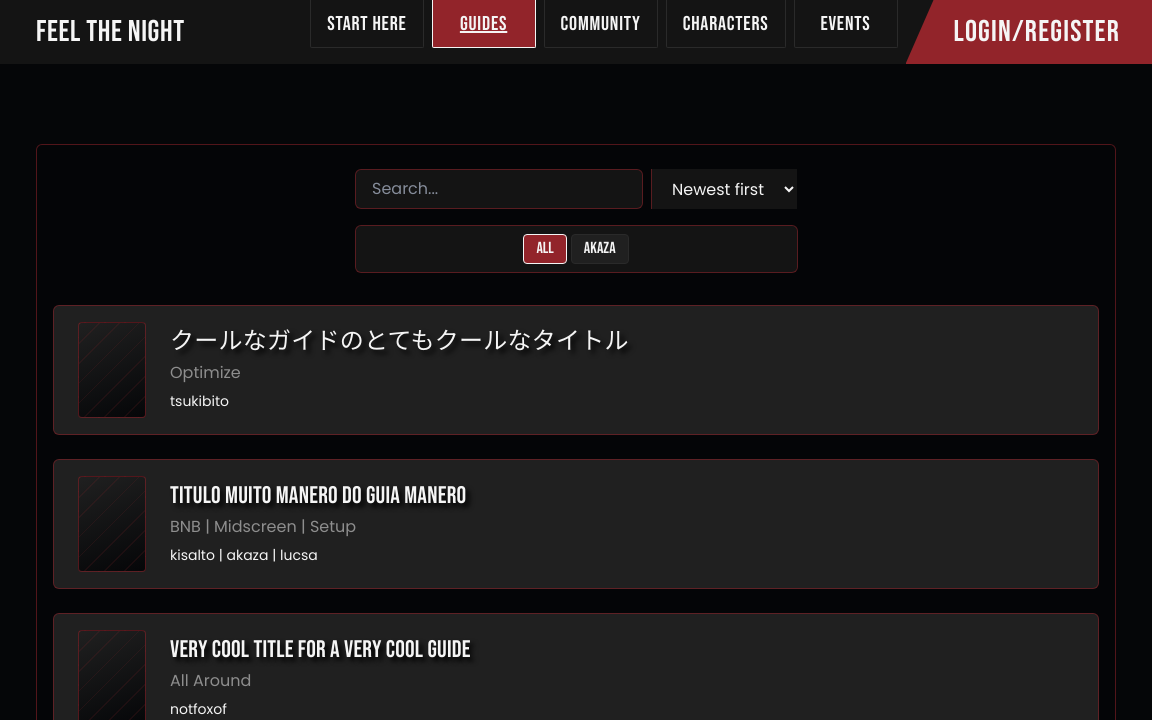
Scenario: Guides › filters by character and back again
Step 1. Click the button "Akaza" → (600, 249), box [571,234,628,264]
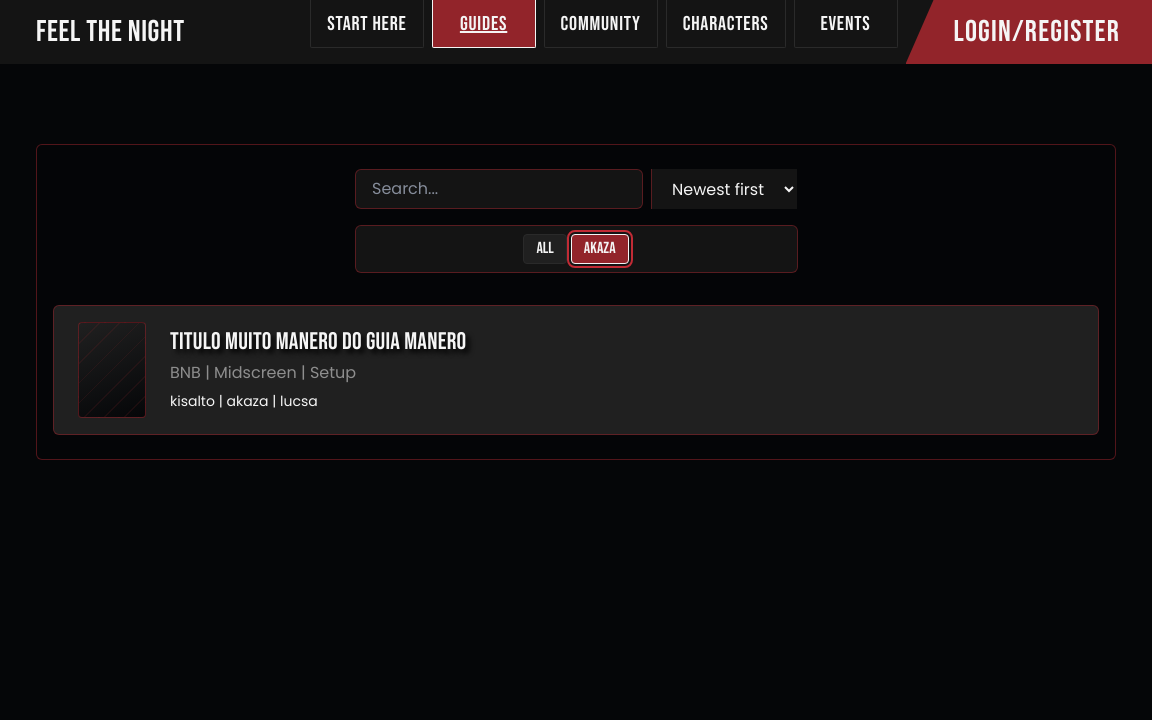
Expected: the button "Akaza" is pressed, [571,234,628,264]
Step 2. Click the button "All" → (545, 249), box [523,234,567,264]
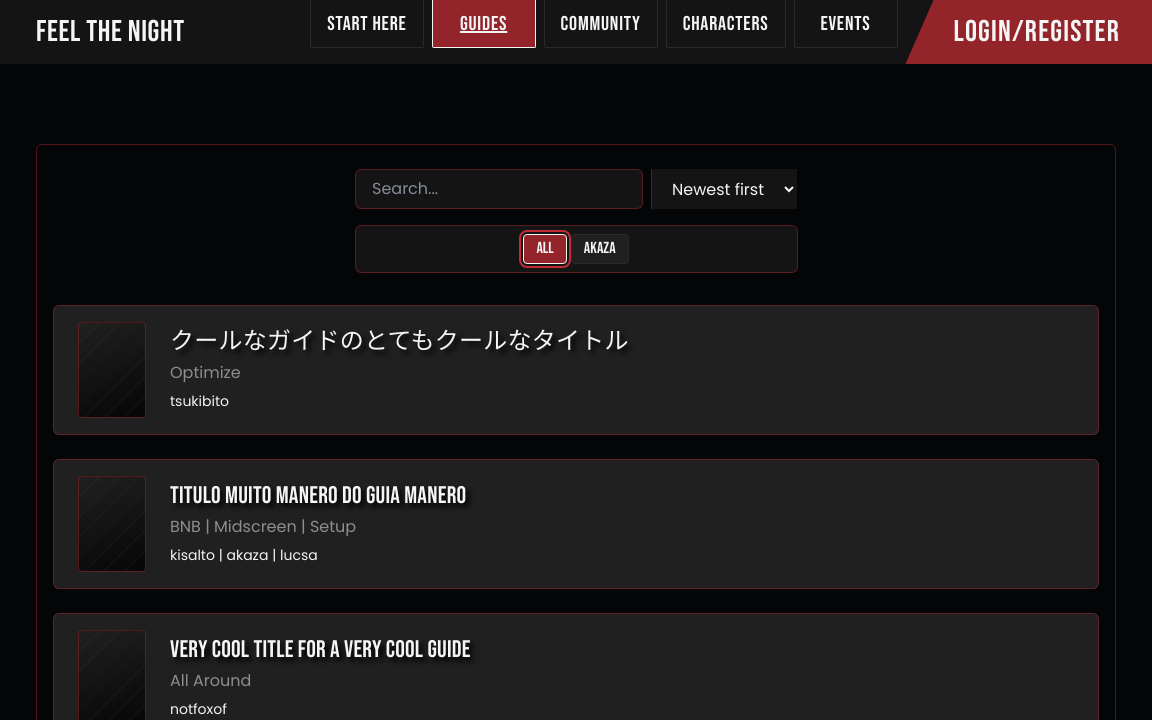
Expected: the number of headings is 4
